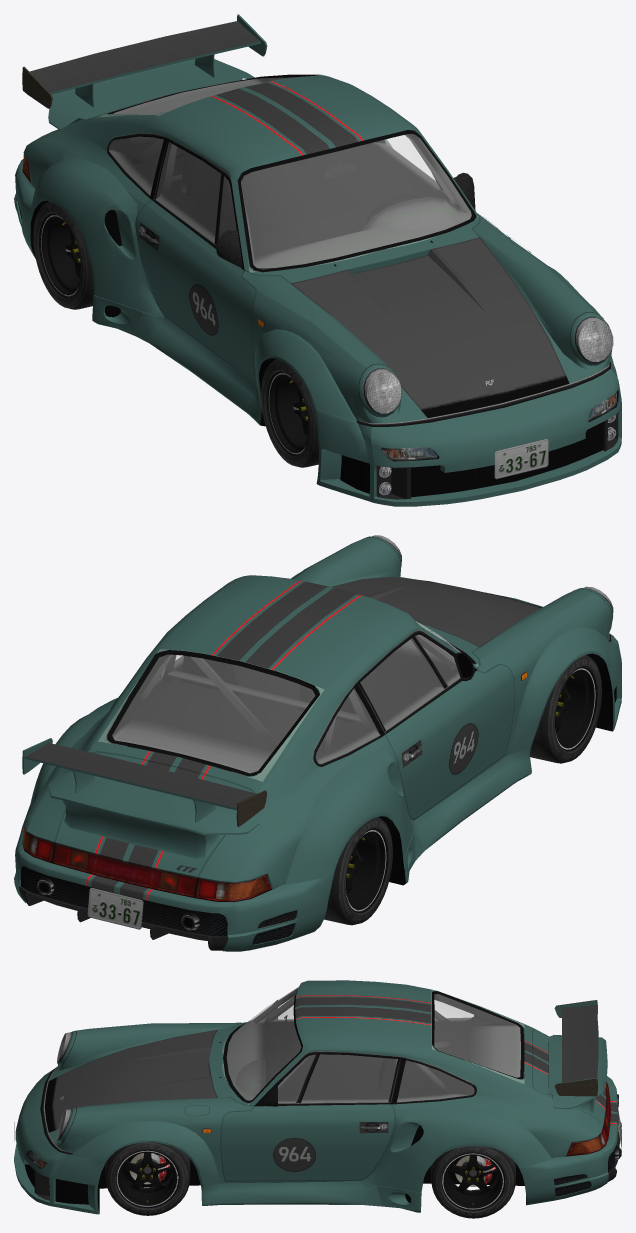
The picture shows the model from 3 angles, top to bottom: view 1: azimuth 30°, elevation 25°; view 2: azimuth 150°, elevation 25°; view 3: azimuth 270°, elevation 25°; orthographic projection. The views are drawn at different scales.
Visible parts, largest first — view 1: PLC_R964_aero_F_.001_6, glass___O_OBJ_O_NOSORT_NEAR_.002_4, PLC_R964_bonnet_N_.002_15, PLC_R964_inner_L0_.006_16, PLC_R964_rearspoiler_N_F__10, PLC_R964_body_N_.002_21, PLC_R964_aero_F_.002_7, HL_BD_COVER___O_OBJ_O_NOSORT_NEAR_.002_3, wheel.002_28, wheel.003_31, HONDA_CIVIC_TURBO_LOD_A_TYRE_mm_tyre.003_33, HONDA_CIVIC_TURBO_LOD_A_TYRE_mm_tyre.002_30 (+4 smaller); view 2: PLC_R964_aero_F_.001_6, glass___O_OBJ_O_NOSORT_NEAR_.002_4, PLC_R964_inner_L0_.006_16, PLC_R964_rearspoiler_N_F__10, PLC_R964_body_N_.002_21, PLC_R964_bonnet_N_.002_15, PLC_R964_trunk_N_NABCDEFGH_.002_2, rollbar_B___O_OBJ_O_NOSORT__20, wheel.002_28, wheel.003_31, HONDA_CIVIC_TURBO_LOD_A_TYRE_mm_tyre.002_30, HONDA_CIVIC_TURBO_LOD_A_TYRE_mm_tyre.003_33 (+3 smaller); view 3: PLC_R964_aero_F_.001_6, glass___O_OBJ_O_NOSORT_NEAR_.002_4, PLC_R964_inner_L0_.006_16, PLC_R964_bonnet_N_.002_15, PLC_R964_rearspoiler_N_F__10, PLC_R964_body_N_.002_21, wheel.001_25, wheel_22, PLC_R964_aero_F_.002_7, HONDA_CIVIC_TURBO_LOD_A_TYRE_mm_tyre.001_27, HONDA_CIVIC_TURBO_LOD_A_TYRE_mm_tyre_24, PLC_R964_trunk_N_NABCDEFGH_.002_2 (+5 smaller).
Boxes of the visible parts, bbox=[...] form: PLC_R964_aero_F_.001_6: bbox=[14, 74, 621, 506]; glass___O_OBJ_O_NOSORT_NEAR_.002_4: bbox=[109, 77, 471, 267]; PLC_R964_bonnet_N_.002_15: bbox=[290, 237, 569, 417]; PLC_R964_inner_L0_.006_16: bbox=[109, 77, 471, 269]; PLC_R964_rearspoiler_N_F__10: bbox=[22, 14, 267, 129]; PLC_R964_body_N_.002_21: bbox=[22, 74, 611, 417]; PLC_R964_aero_F_.002_7: bbox=[30, 200, 611, 493]; HL_BD_COVER___O_OBJ_O_NOSORT_NEAR_.002_3: bbox=[363, 316, 613, 413]; wheel.002_28: bbox=[266, 371, 308, 455]; wheel.003_31: bbox=[39, 213, 80, 297]; HONDA_CIVIC_TURBO_LOD_A_TYRE_mm_tyre.003_33: bbox=[33, 201, 93, 309]; HONDA_CIVIC_TURBO_LOD_A_TYRE_mm_tyre.002_30: bbox=[261, 359, 318, 467]; PLC_R964_aero_F_.001_6: bbox=[14, 537, 621, 951]; glass___O_OBJ_O_NOSORT_NEAR_.002_4: bbox=[112, 621, 460, 772]; PLC_R964_inner_L0_.006_16: bbox=[112, 638, 460, 773]; PLC_R964_rearspoiler_N_F__10: bbox=[22, 738, 267, 858]; PLC_R964_body_N_.002_21: bbox=[22, 536, 613, 902]; PLC_R964_bonnet_N_.002_15: bbox=[331, 577, 541, 647]; PLC_R964_trunk_N_NABCDEFGH_.002_2: bbox=[54, 751, 254, 877]; rollbar_B___O_OBJ_O_NOSORT__20: bbox=[134, 634, 458, 753]; wheel.002_28: bbox=[554, 667, 597, 751]; wheel.003_31: bbox=[345, 829, 388, 912]; HONDA_CIVIC_TURBO_LOD_A_TYRE_mm_tyre.002_30: bbox=[529, 654, 602, 763]; HONDA_CIVIC_TURBO_LOD_A_TYRE_mm_tyre.003_33: bbox=[324, 817, 392, 925]; PLC_R964_aero_F_.001_6: bbox=[14, 980, 621, 1214]; glass___O_OBJ_O_NOSORT_NEAR_.002_4: bbox=[227, 987, 520, 1102]; PLC_R964_inner_L0_.006_16: bbox=[226, 988, 520, 1103]; PLC_R964_bonnet_N_.002_15: bbox=[44, 1030, 221, 1132]; PLC_R964_rearspoiler_N_F__10: bbox=[548, 1000, 607, 1113]; PLC_R964_body_N_.002_21: bbox=[57, 989, 610, 1156]; wheel.001_25: bbox=[116, 1150, 179, 1208]; wheel_22: bbox=[441, 1153, 504, 1210]; PLC_R964_aero_F_.002_7: bbox=[40, 1067, 564, 1213]; HONDA_CIVIC_TURBO_LOD_A_TYRE_mm_tyre.001_27: bbox=[105, 1142, 190, 1215]; HONDA_CIVIC_TURBO_LOD_A_TYRE_mm_tyre_24: bbox=[431, 1145, 515, 1218]; PLC_R964_trunk_N_NABCDEFGH_.002_2: bbox=[532, 1029, 606, 1124].
Bounding box in the file's own units: 4.88 × 3.19 × 11.
Materials: 13 (12 with a texture image).
